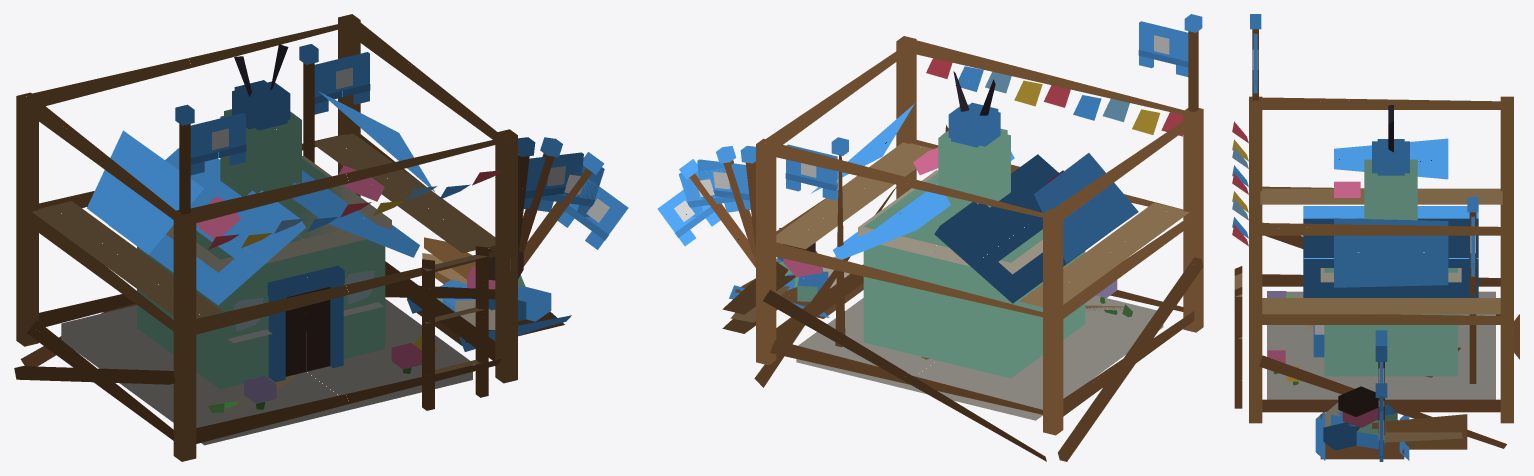
File: butterfly-home_lod1.glb
3 views of the same model, side by side, from view 1: azimuth 30°, elevation 25°; view 2: azimuth 150°, elevation 25°; view 3: azimuth 270°, elevation 25° (orthographic). The views are drawn at different scales.
Parts seen in each view (by area): view 1: scaffold-mesh, built-mesh, dismantle-25-mesh, dismantle-75-mesh, dismantle-50-mesh, scaffold-banner, banner, dismantle-25-banner, dismantle-75-banner, flag-pole, dismantle-25-flag-pole, scaffold-flag-pole (+3 smaller); view 2: scaffold-mesh, built-mesh, dismantle-50-mesh, dismantle-25-mesh, dismantle-75-mesh, scaffold-banner, dismantle-25-banner, banner, dismantle-75-banner, flag-pole, dismantle-50-banner, dismantle-25-flag-pole (+3 smaller); view 3: scaffold-mesh, built-mesh, dismantle-25-mesh, dismantle-50-mesh, flag-pole, dismantle-75-mesh, scaffold-flag-pole, scaffold-banner.
Part boxes in pixels (bbox=[...]): scaffold-mesh: bbox=[14, 14, 517, 461]; built-mesh: bbox=[87, 44, 435, 373]; dismantle-25-mesh: bbox=[61, 249, 551, 426]; dismantle-75-mesh: bbox=[166, 143, 571, 445]; dismantle-50-mesh: bbox=[137, 246, 564, 412]; scaffold-banner: bbox=[190, 113, 246, 175]; banner: bbox=[314, 52, 370, 114]; dismantle-25-banner: bbox=[557, 178, 628, 249]; dismantle-75-banner: bbox=[523, 152, 583, 208]; flag-pole: bbox=[299, 44, 318, 163]; dismantle-25-flag-pole: bbox=[523, 152, 604, 266]; scaffold-flag-pole: bbox=[175, 104, 194, 214]; scaffold-mesh: bbox=[722, 36, 1203, 461]; built-mesh: bbox=[811, 71, 1138, 378]; dismantle-50-mesh: bbox=[735, 251, 1132, 377]; dismantle-25-mesh: bbox=[779, 228, 1156, 405]; dismantle-75-mesh: bbox=[729, 147, 1132, 420]; scaffold-banner: bbox=[1138, 21, 1188, 76]; dismantle-25-banner: bbox=[657, 190, 720, 246]; banner: bbox=[785, 144, 837, 200]; dismantle-75-banner: bbox=[697, 159, 750, 209]; flag-pole: bbox=[831, 137, 848, 347]; dismantle-50-banner: bbox=[678, 168, 738, 217]; dismantle-25-flag-pole: bbox=[679, 159, 755, 267]; scaffold-mesh: bbox=[1232, 96, 1519, 449]; built-mesh: bbox=[1280, 105, 1478, 384]; dismantle-25-mesh: bbox=[1267, 291, 1495, 450]; dismantle-50-mesh: bbox=[1267, 291, 1495, 459]; flag-pole: bbox=[1467, 197, 1478, 383]; dismantle-75-mesh: bbox=[1273, 192, 1417, 460]; scaffold-flag-pole: bbox=[1250, 14, 1261, 100]; scaffold-banner: bbox=[1252, 33, 1258, 93].
Bounding box in the file's own units: 2.59 × 1.77 × 1.51.
